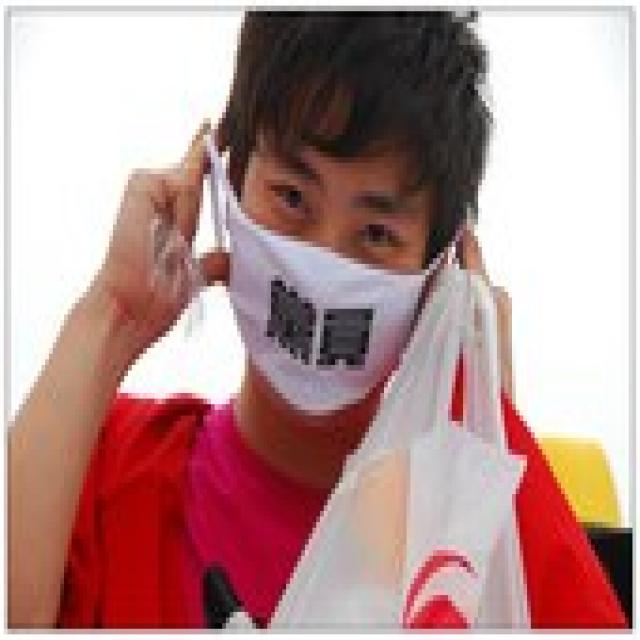mask: (230, 101, 440, 393)
